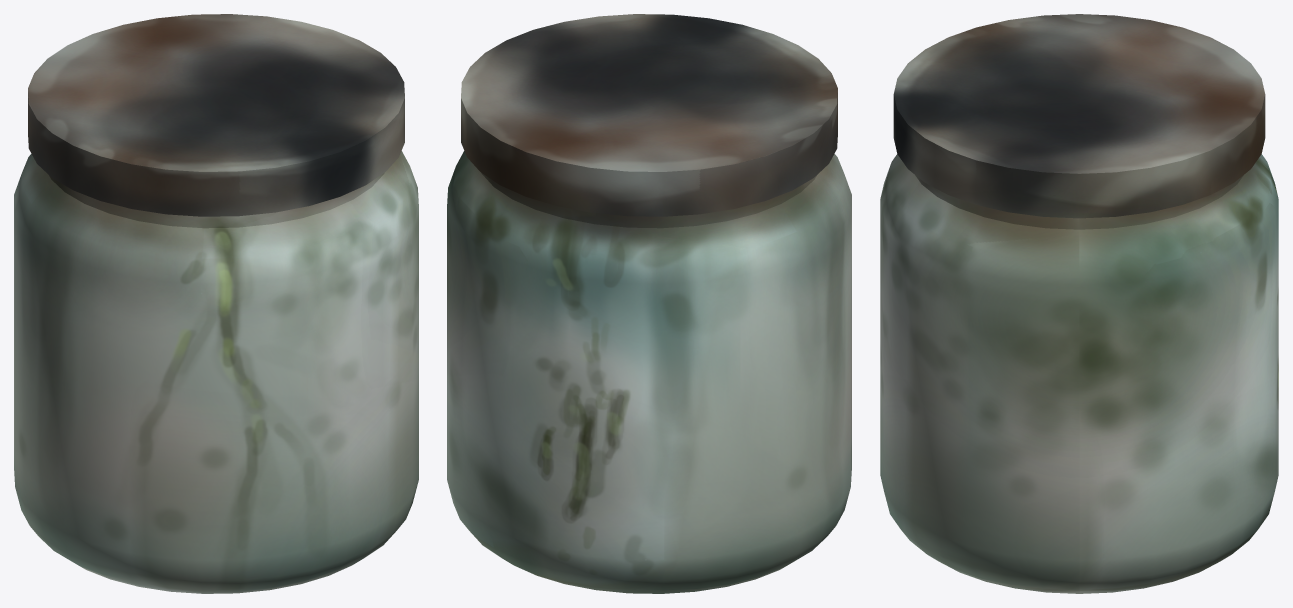
The model's file is Purkki3.fbx.
The picture shows the model from 3 angles, left to right: view 1: azimuth 30°, elevation 25°; view 2: azimuth 150°, elevation 25°; view 3: azimuth 270°, elevation 25°; orthographic projection.
Visible parts, largest first — view 1: Cylinder; view 2: Cylinder; view 3: Cylinder.
Part boxes in pixels (bbox=[...]): Cylinder: bbox=[14, 14, 418, 593]; Cylinder: bbox=[447, 14, 851, 593]; Cylinder: bbox=[880, 14, 1278, 593].
Bounding box in the file's own units: 48.65 × 56.49 × 47.76.
